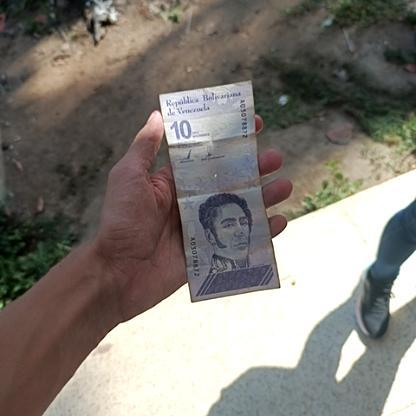ten-front-vef: (158, 83, 282, 302)
